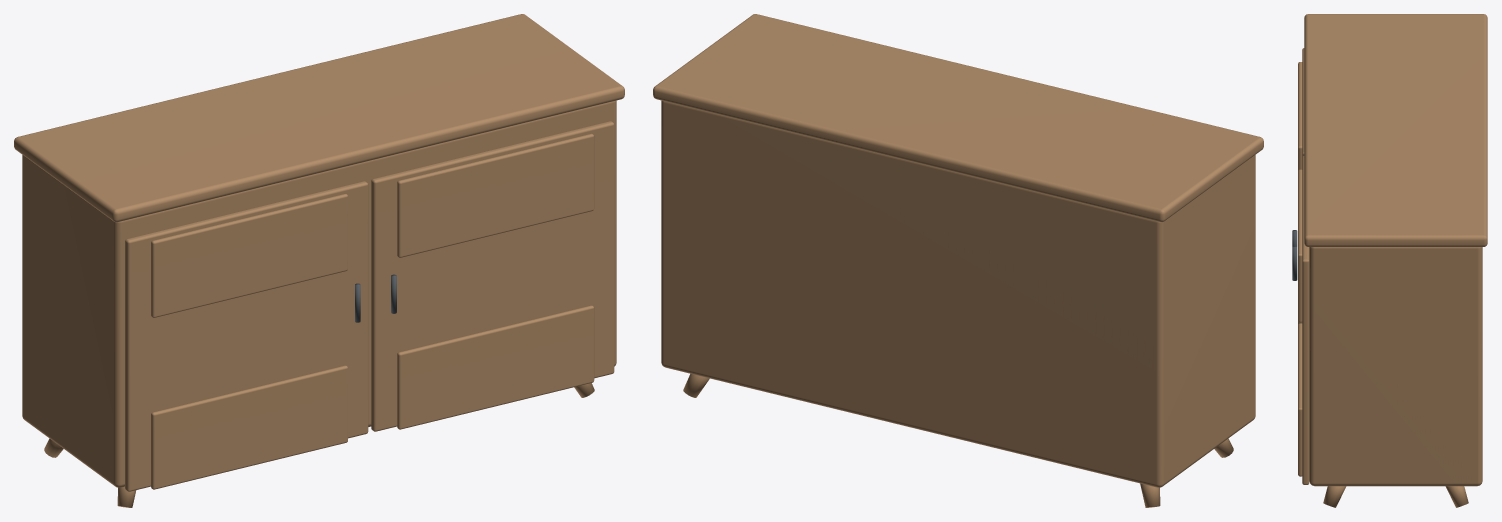
The model's file is atelier-outdoor-kitchen-counter.glb.
3 renders of one model, left to right at view 1: azimuth 30°, elevation 25°; view 2: azimuth 150°, elevation 25°; view 3: azimuth 270°, elevation 25°, orthographic. The views are drawn at different scales.
Visible parts, largest first — view 1: legs.204; view 2: legs.204; view 3: legs.204, metal.177.
Part boxes in pixels (bbox=[...]): legs.204: bbox=[14, 14, 624, 507]; legs.204: bbox=[653, 14, 1263, 507]; legs.204: bbox=[1298, 14, 1487, 507]; metal.177: bbox=[1292, 230, 1297, 280].
Size of the model in its own units: 1.84 by 1.08 by 0.6765.
